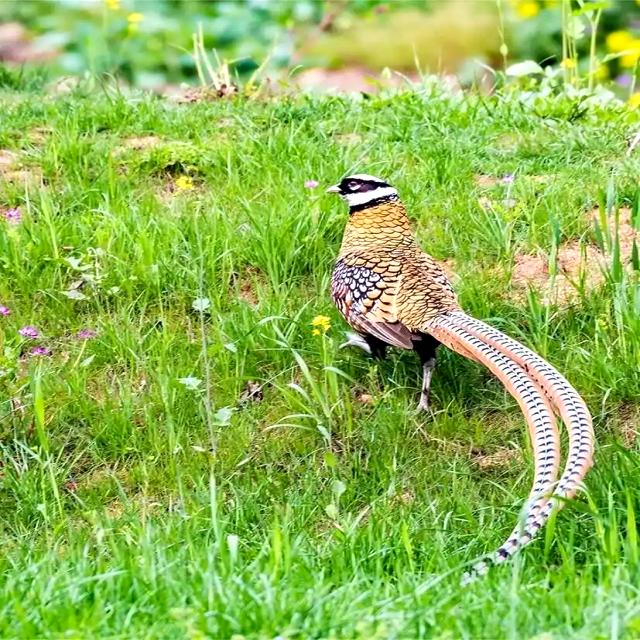Reeves-s Pheasant: (424, 311, 595, 589)
